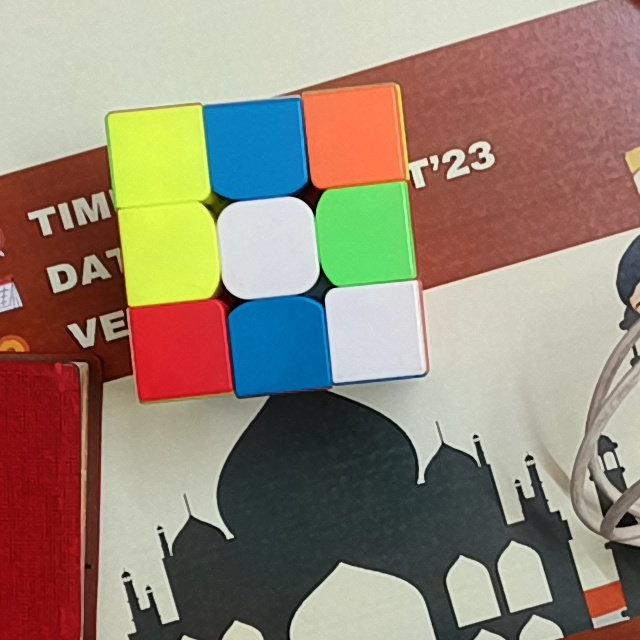tile: (315, 94, 397, 176), (129, 212, 206, 294), (226, 210, 310, 284), (215, 108, 298, 182), (326, 194, 404, 272), (118, 119, 197, 196), (141, 313, 221, 389), (240, 310, 319, 385), (335, 293, 415, 367)
